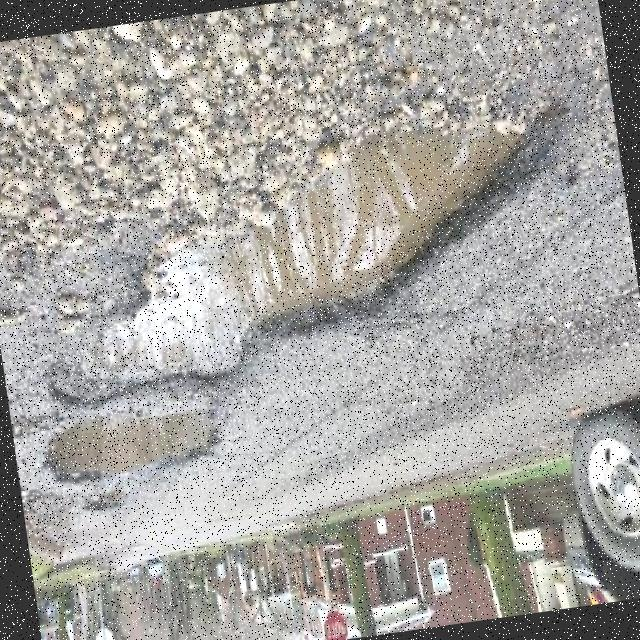Pothole: (47, 103, 572, 407), (49, 407, 217, 479), (85, 492, 124, 513)
